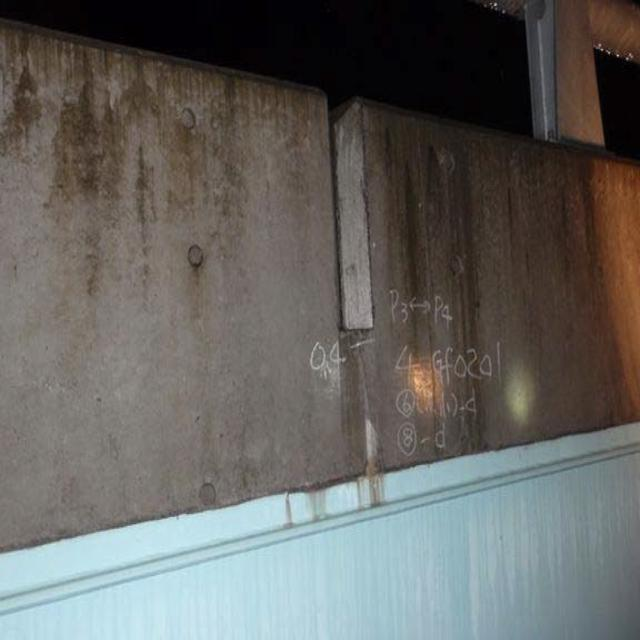freelime: (354, 408, 394, 506)
